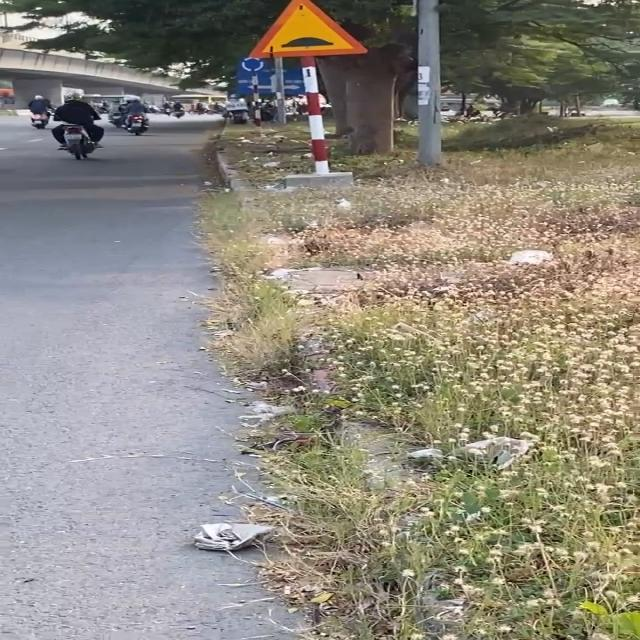221-duong-go-ghe: (248, 0, 371, 59)
303-noi-giao-nhau-chay-theo-vong-xuyen: (237, 55, 268, 73)
